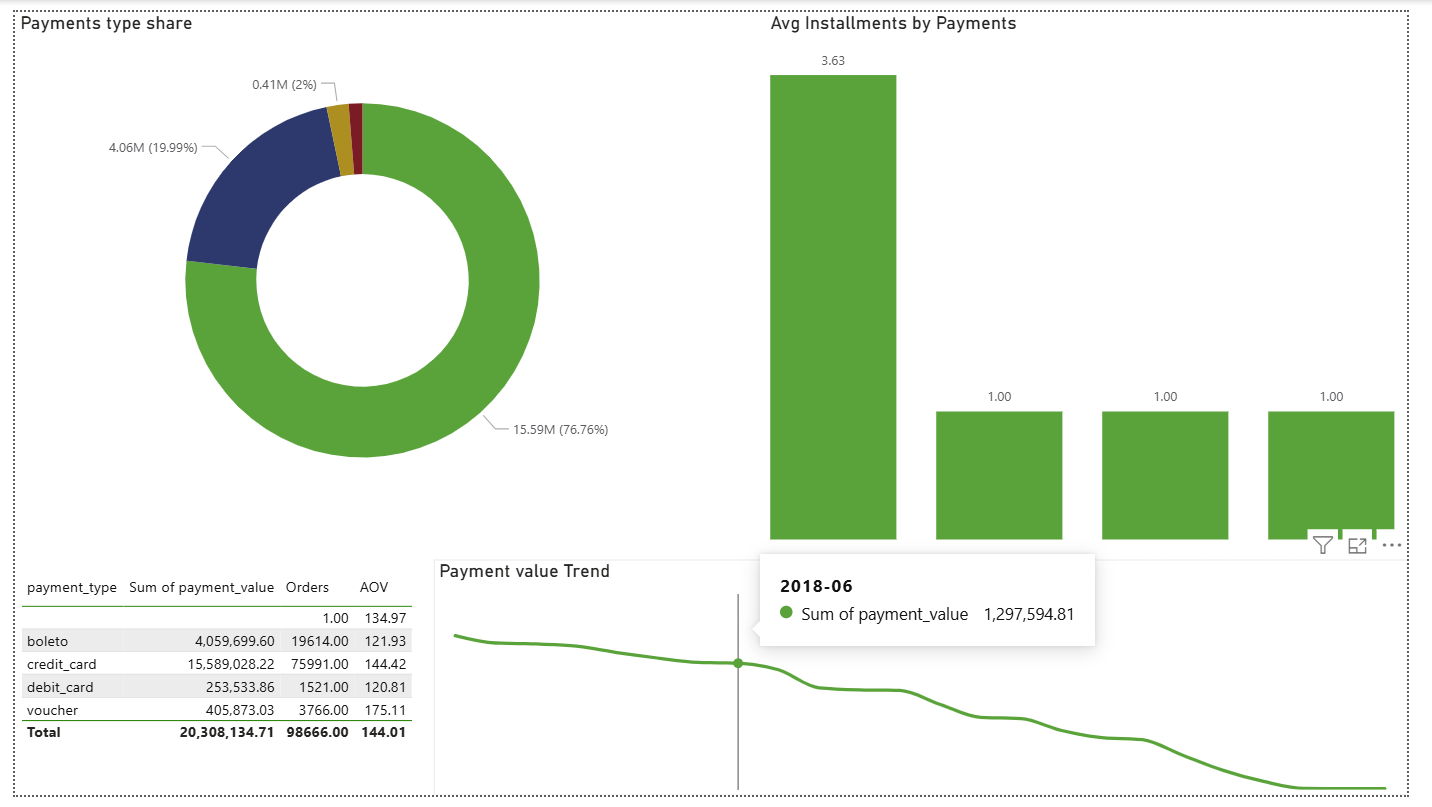

Layout of this report page (visuals, bound fields, positions):
{"tool":"powerbi","page":{"name":"Payments","canvas":[1280,720],"ordinal":6},"visuals":[{"type":"donutChart","title":"Payments type share","fields":{"Category":["public bi_fact_sales.payment_type"],"Y":["Sum(public bi_fact_sales.payment_value)"]},"box":[0,0,639.5,474.8],"z":0},{"type":"clusteredColumnChart","title":"Avg Installments by Payments","fields":{"Category":["public bi_fact_sales.payment_type"],"Y":["public bi_fact_sales.Avg Installments"]},"box":[690.2,0,590.1,491.3],"z":1000},{"type":"lineChart","title":"Payment value Trend","fields":{"Category":["DimDate.Year-Month"],"Y":["Sum(public bi_fact_sales.payment_value)"]},"box":[385.6,503.6,894.7,216.8],"z":2000},{"type":"tableEx","title":"Top 20 Category","fields":{"Values":["public bi_fact_sales.payment_type","Sum(public bi_fact_sales.payment_value)","public bi_fact_sales.Orders","public bi_fact_sales.AOV"]},"box":[0,513.2,378.7,207.2],"z":3000}]}

Visuals, with their boxes in screenshot pixels (x1, y1, x2, y2), scaled from the page's 1280x720 canvas onto the 1432x807 screenshot:
"Payments type share" donutChart: 0:0:715:532
"Avg Installments by Payments" clusteredColumnChart: 772:0:1431:551
"Payment value Trend" lineChart: 431:564:1431:806
"Top 20 Category" tableEx: 0:575:424:806
